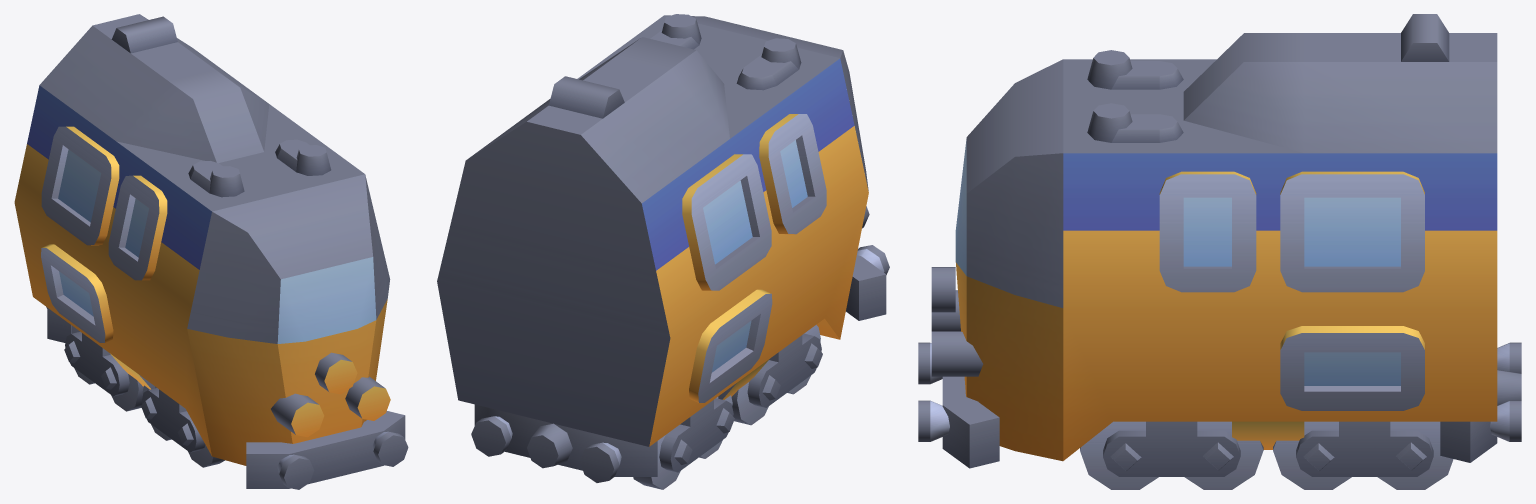
Rendered from kenney-train-train-electric-double-a.glb.
The picture shows the model from 3 angles, left to right: view 1: azimuth 30°, elevation 25°; view 2: azimuth 150°, elevation 25°; view 3: azimuth 270°, elevation 25°; orthographic projection. The views are drawn at different scales.
Parts seen in each view (by area): view 1: train-electric-double-a; view 2: train-electric-double-a; view 3: train-electric-double-a.
Part boxes in pixels (x1,y1,x2,y2): train-electric-double-a: [14, 14, 408, 489]; train-electric-double-a: [437, 14, 889, 489]; train-electric-double-a: [918, 14, 1521, 489].
Size of the model in its own units: 1.28 by 1.92 by 2.5.
1 material, 1 textured.
